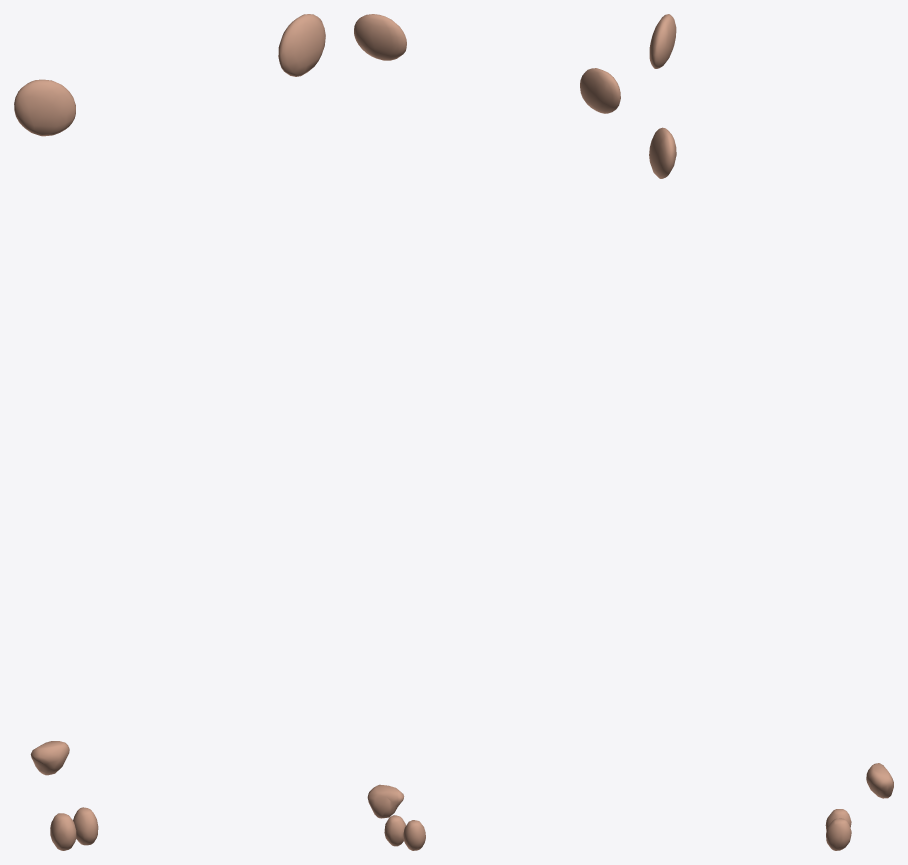
Rendered from pediatric_child_10y_male.reproductive.LOD1.glb.
3 renders of one model, left to right at view 1: azimuth 30°, elevation 25°; view 2: azimuth 150°, elevation 25°; view 3: azimuth 270°, elevation 25°, orthographic. The views are drawn at different scales.
Parts seen in each view (by area): view 1: PEDIATRIC.CHILD_10Y.MALE.REPRODUCTIVE.BREAST_ADIPOSE_TISSUE. (×2), PEDIATRIC.CHILD_10Y.MALE.REPRODUCTIVE.PROSTATE, PEDIATRIC.CHILD_10Y.MALE.REPRODUCTIVE.TESTIS.R, PEDIATRIC.CHILD_10Y.MALE.REPRODUCTIVE.TESTIS.L; view 2: PEDIATRIC.CHILD_10Y.MALE.REPRODUCTIVE.BREAST_ADIPOSE_TISSUE. (×2), PEDIATRIC.CHILD_10Y.MALE.REPRODUCTIVE.PROSTATE, PEDIATRIC.CHILD_10Y.MALE.REPRODUCTIVE.TESTIS.R, PEDIATRIC.CHILD_10Y.MALE.REPRODUCTIVE.TESTIS.L; view 3: PEDIATRIC.CHILD_10Y.MALE.REPRODUCTIVE.BREAST_ADIPOSE_TISSUE. (×2), PEDIATRIC.CHILD_10Y.MALE.REPRODUCTIVE.PROSTATE, PEDIATRIC.CHILD_10Y.MALE.REPRODUCTIVE.TESTIS.L.
Part boxes in pixels (x1,y1,x2,y2): PEDIATRIC.CHILD_10Y.MALE.REPRODUCTIVE.BREAST_ADIPOSE_TISSUE. (×2): (14,14,325,136); PEDIATRIC.CHILD_10Y.MALE.REPRODUCTIVE.PROSTATE: (30,741,69,775); PEDIATRIC.CHILD_10Y.MALE.REPRODUCTIVE.TESTIS.R: (50,813,76,850); PEDIATRIC.CHILD_10Y.MALE.REPRODUCTIVE.TESTIS.L: (73,807,98,845); PEDIATRIC.CHILD_10Y.MALE.REPRODUCTIVE.BREAST_ADIPOSE_TISSUE. (×2): (354,14,620,113); PEDIATRIC.CHILD_10Y.MALE.REPRODUCTIVE.PROSTATE: (367,784,404,818); PEDIATRIC.CHILD_10Y.MALE.REPRODUCTIVE.TESTIS.R: (403,820,425,850); PEDIATRIC.CHILD_10Y.MALE.REPRODUCTIVE.TESTIS.L: (384,815,405,846); PEDIATRIC.CHILD_10Y.MALE.REPRODUCTIVE.BREAST_ADIPOSE_TISSUE. (×2): (649,14,676,178); PEDIATRIC.CHILD_10Y.MALE.REPRODUCTIVE.PROSTATE: (866,763,893,798); PEDIATRIC.CHILD_10Y.MALE.REPRODUCTIVE.TESTIS.L: (826,818,851,850).
Bounding box in the file's own units: 0.1494 × 0.3998 × 0.115.
